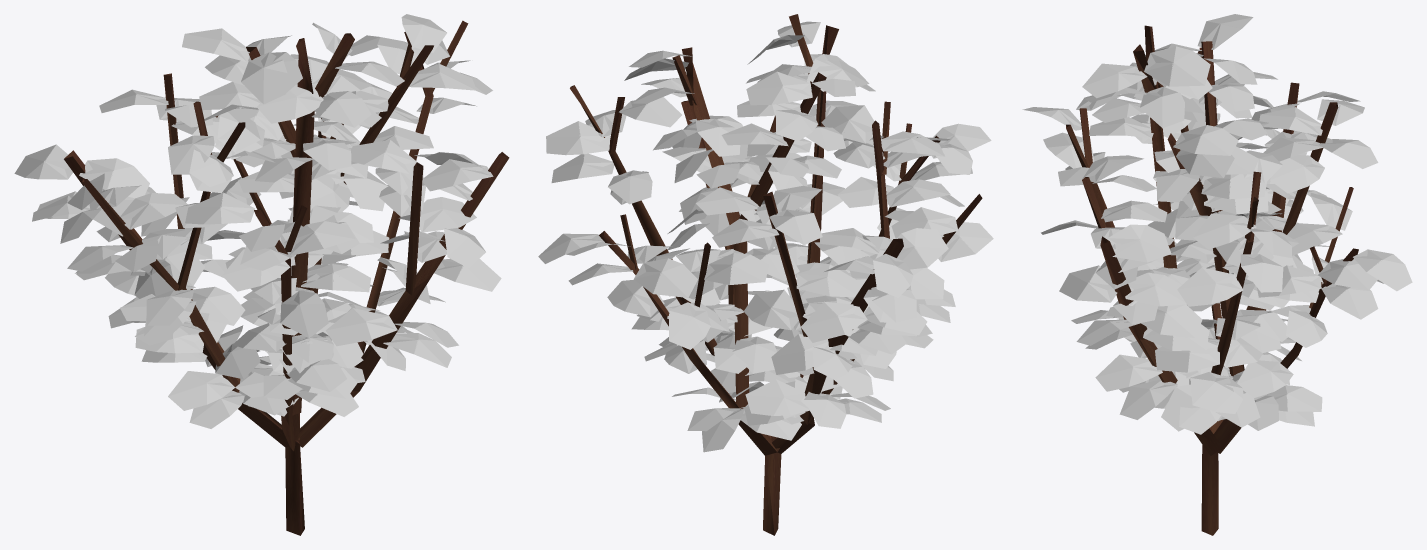
File: Tree_LeafV2.fbx
3 views of the same model, side by side, from view 1: azimuth 30°, elevation 25°; view 2: azimuth 150°, elevation 25°; view 3: azimuth 270°, elevation 25° (orthographic). The views are drawn at different scales.
Visible parts, largest first — view 1: leaf.001, BigTreeNokrei.001; view 2: leaf.001, BigTreeNokrei.001; view 3: leaf.001, BigTreeNokrei.001.
Part boxes in pixels (x1,y1,x2,y2): leaf.001: (14,14,501,428); BigTreeNokrei.001: (64,20,509,535); leaf.001: (538,21,993,452); BigTreeNokrei.001: (570,14,982,535); leaf.001: (1022,14,1412,434); BigTreeNokrei.001: (1066,25,1358,535).
Bounding box in the file's own units: 1236 × 1444 × 1036.
